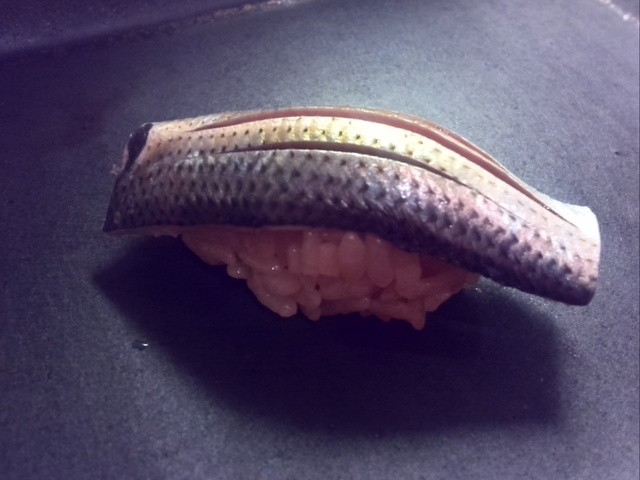spotted-shad: (99, 100, 603, 333)
